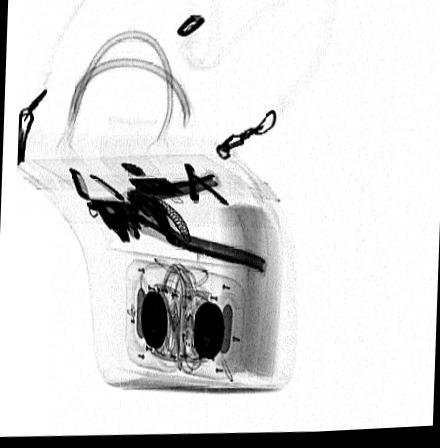Pliers: (87, 174, 261, 274)
